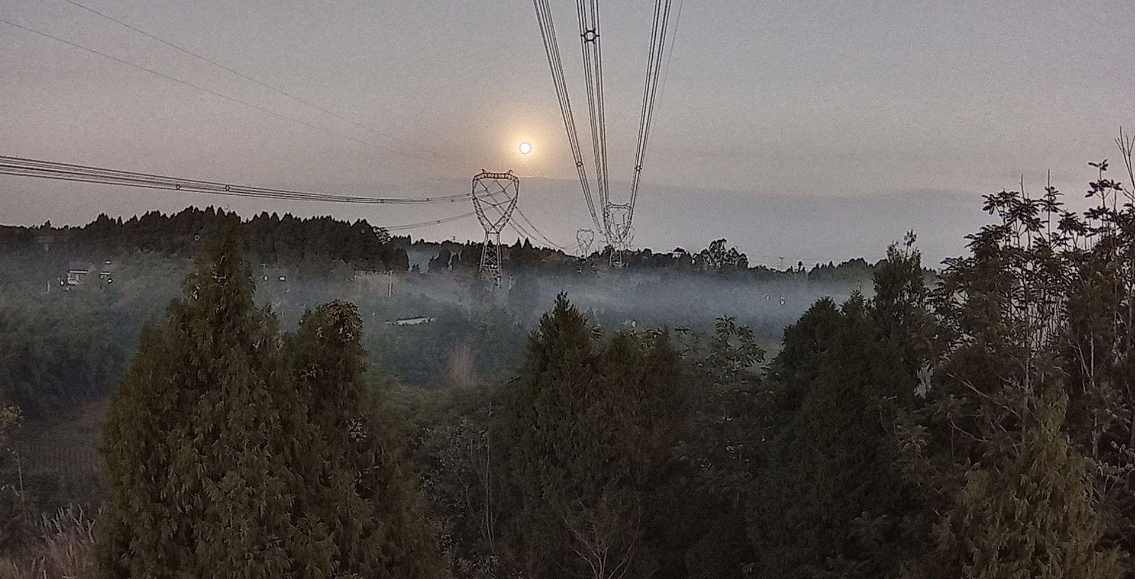山间云雾: (0, 240, 1135, 406)
